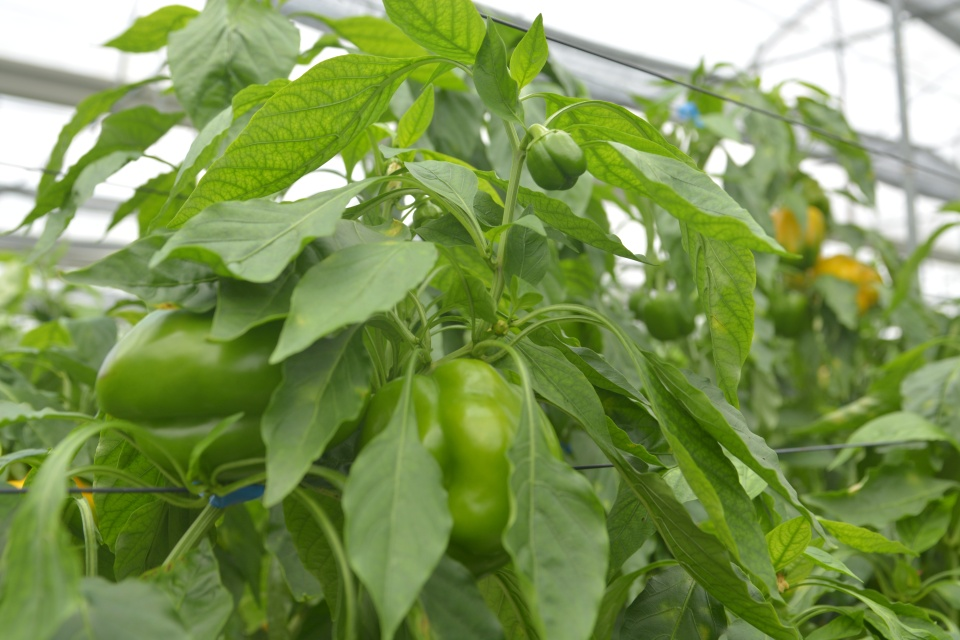fruit: (91, 304, 373, 485), (356, 356, 565, 560), (778, 250, 885, 313), (769, 201, 826, 268)
immature: (522, 128, 589, 192), (641, 286, 699, 341), (765, 286, 810, 338)
